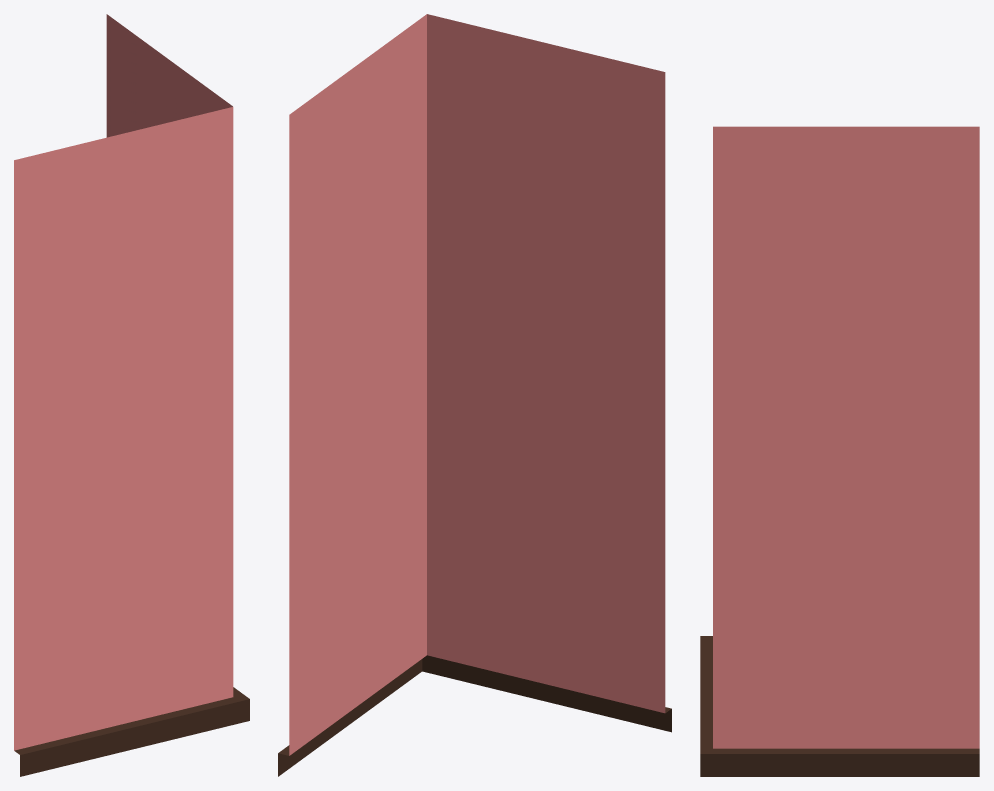
File: SM_Coin_Ext_4x4.fbx
The picture shows the model from 3 angles, left to right: view 1: azimuth 30°, elevation 25°; view 2: azimuth 150°, elevation 25°; view 3: azimuth 270°, elevation 25°; orthographic projection. The views are drawn at different scales.
Parts seen in each view (by area): view 1: SM_Coin_Ext_4x4; view 2: SM_Coin_Ext_4x4; view 3: SM_Coin_Ext_4x4.
Part boxes in pixels (left/top/right/bottom): SM_Coin_Ext_4x4: left=14, top=14, right=249, bottom=776; SM_Coin_Ext_4x4: left=278, top=14, right=671, bottom=776; SM_Coin_Ext_4x4: left=700, top=126, right=979, bottom=776.
Bounding box in the file's own units: 1.1 × 2.8 × 1.1.
